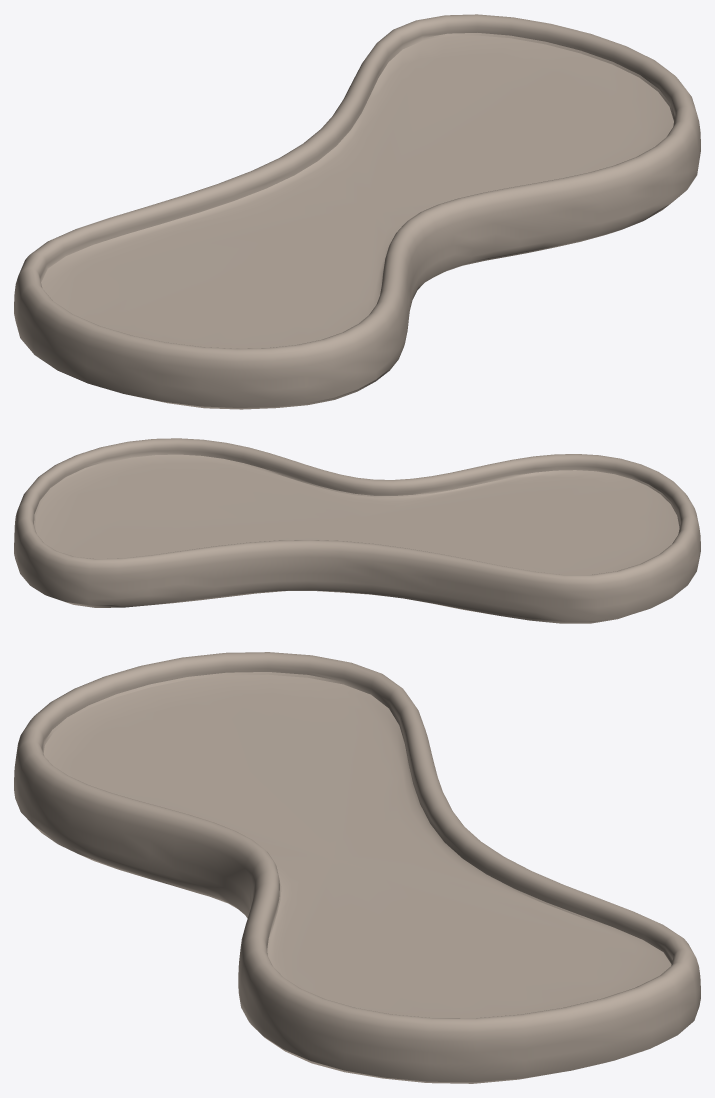
The model's file is Piscina.fbx.
3 views of the same model, one above another, from view 1: azimuth 30°, elevation 25°; view 2: azimuth 150°, elevation 25°; view 3: azimuth 270°, elevation 25° (orthographic). The views are drawn at different scales.
Parts seen in each view (by area): view 1: Plane_009; view 2: Plane_009; view 3: Plane_009.
Part boxes in pixels (x1,y1,x2,y2): Plane_009: (14,14,700,409); Plane_009: (14,438,700,623); Plane_009: (14,652,700,1083).
Bounding box in the file's own units: 464 × 42.13 × 354.
